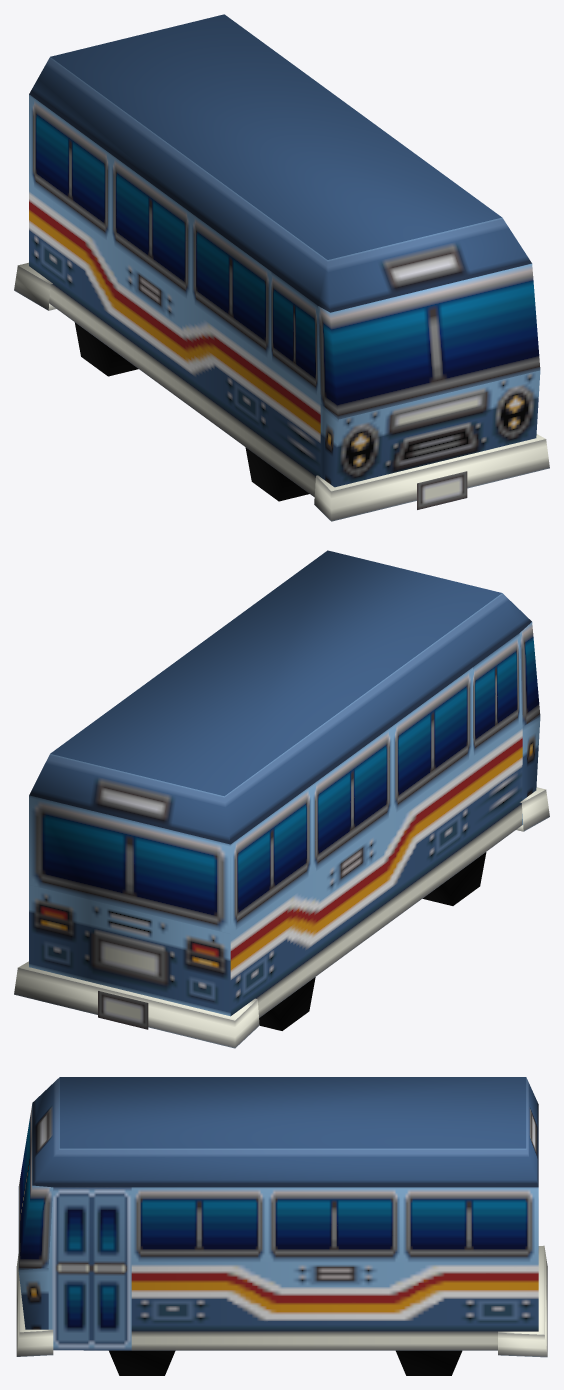
File: old_kinoko_gc-bus_a.glb
3 renders of one model, top to bottom at view 1: azimuth 30°, elevation 25°; view 2: azimuth 150°, elevation 25°; view 3: azimuth 270°, elevation 25°, orthographic. The views are drawn at different scales.
Parts seen in each view (by area): view 1: bus_a; view 2: bus_a; view 3: bus_a.
Boxes of the visible parts, <box> form: bus_a: <box>14,14,549,521</box>; bus_a: <box>14,550,549,1048</box>; bus_a: <box>16,1077,547,1375</box>.
Size of the model in its own units: 2.91 by 3.32 by 7.28.
1 material, 1 textured.
